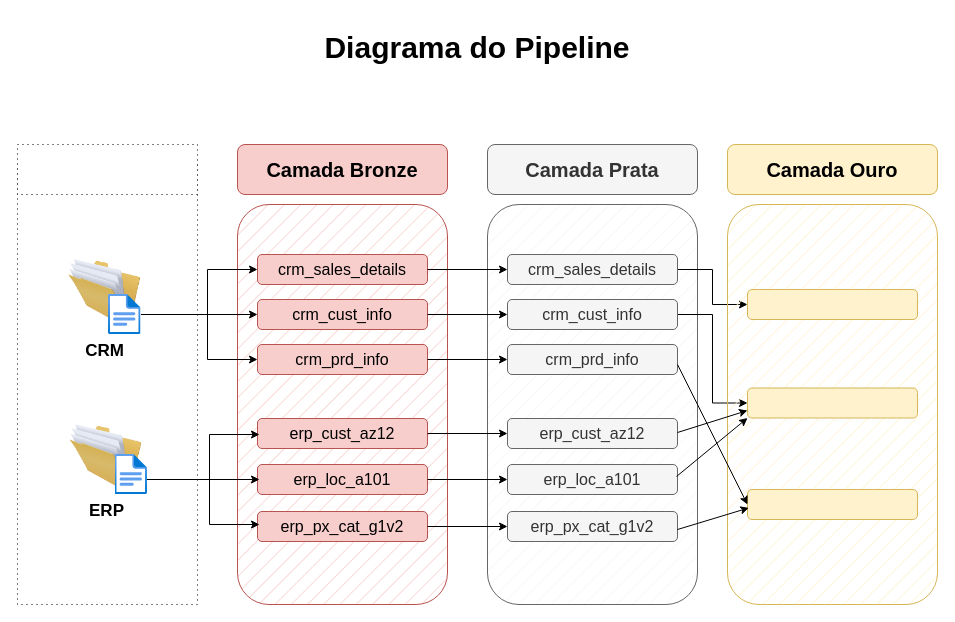
The diagram is 955 pixels wide and 622 high, and some of its shapes have lost their labels. Each missing label, with the centre of its shape:
"dim_customers" goes at pixel 832 402.
"dim_products" goes at pixel 832 504.
"fact_sales" goes at pixel 832 304.
"Fontes" goes at pixel 107 169.
